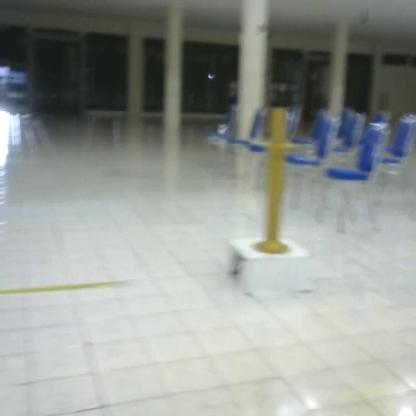pole: (256, 104, 300, 259)
